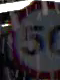Speed limit: (8, 1, 59, 76)
